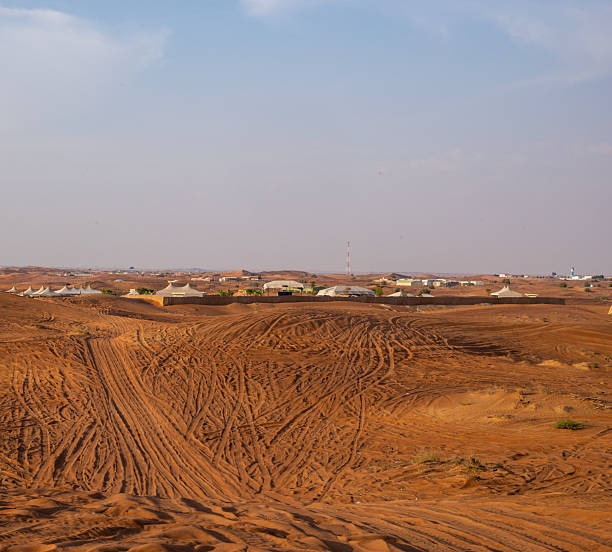vehicle_track: (0, 303, 611, 550), (0, 307, 530, 498), (0, 309, 433, 497)
